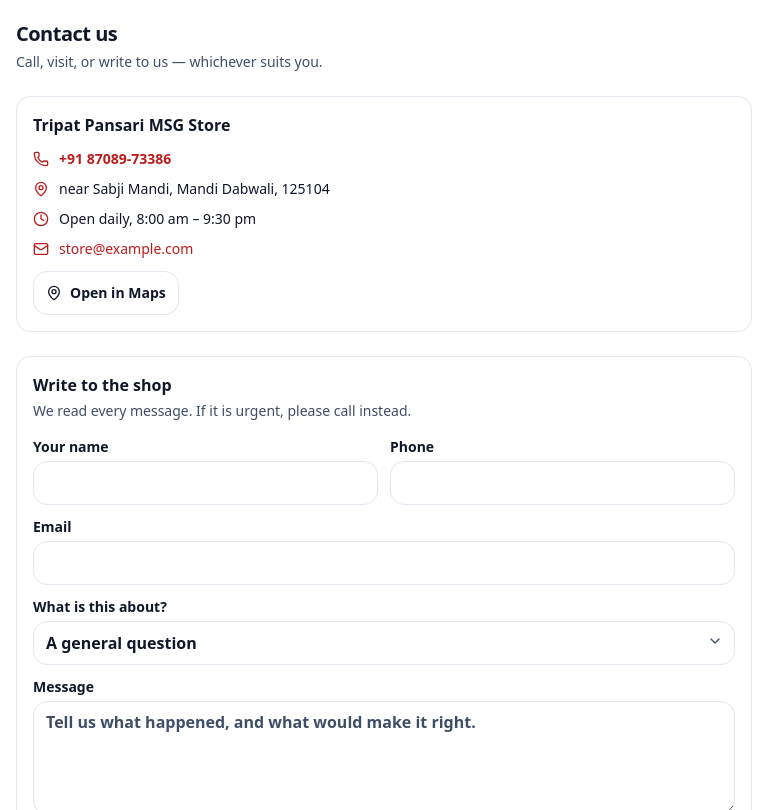
Test: ContactPage › sends the message and thanks the customer
In the field labelled "Your name": [206, 483] box left=33, top=461, right=378, bottom=505, type "Ramesh"
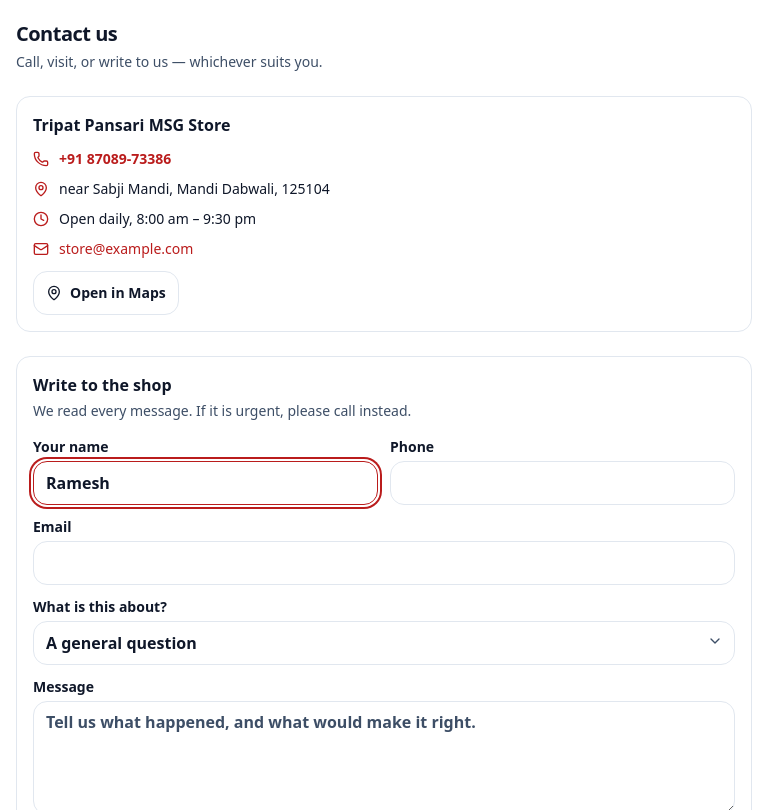
In the field labelled "Phone": [562, 483] box left=390, top=461, right=735, bottom=505, type "9876543210"
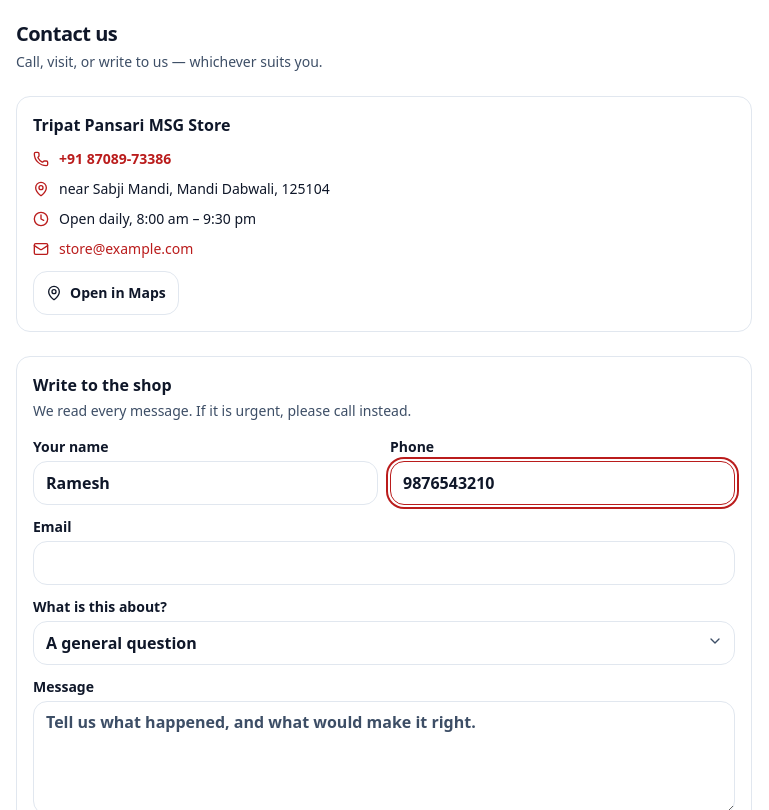
Select "An order" in the dropdown labelled "What is this about?": [384, 643] box left=33, top=621, right=735, bottom=665
(page scrolled)
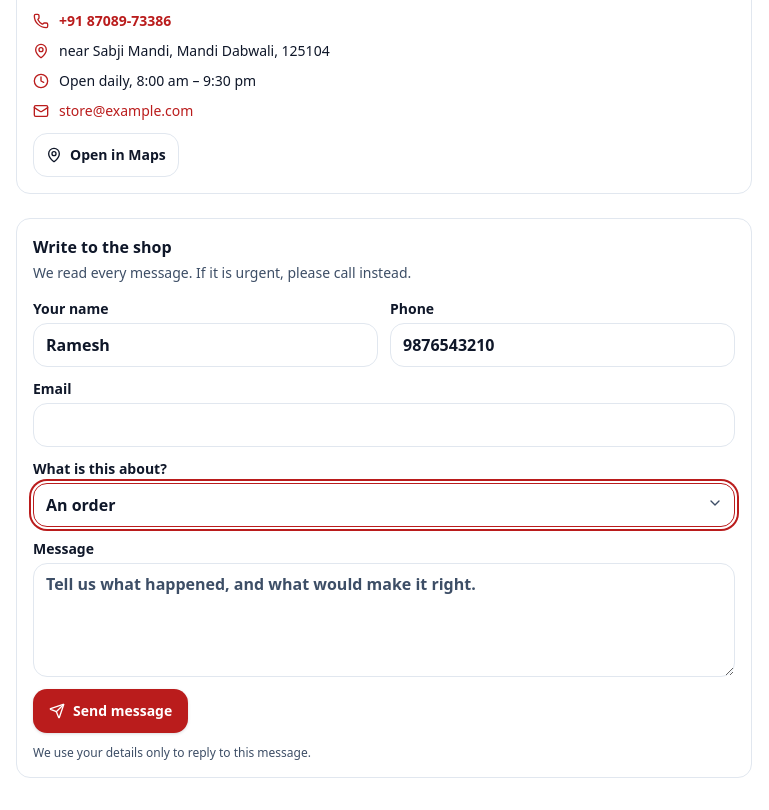
In the text box labelled "Message": [384, 620] box left=33, top=563, right=735, bottom=677, type "Packet was torn"
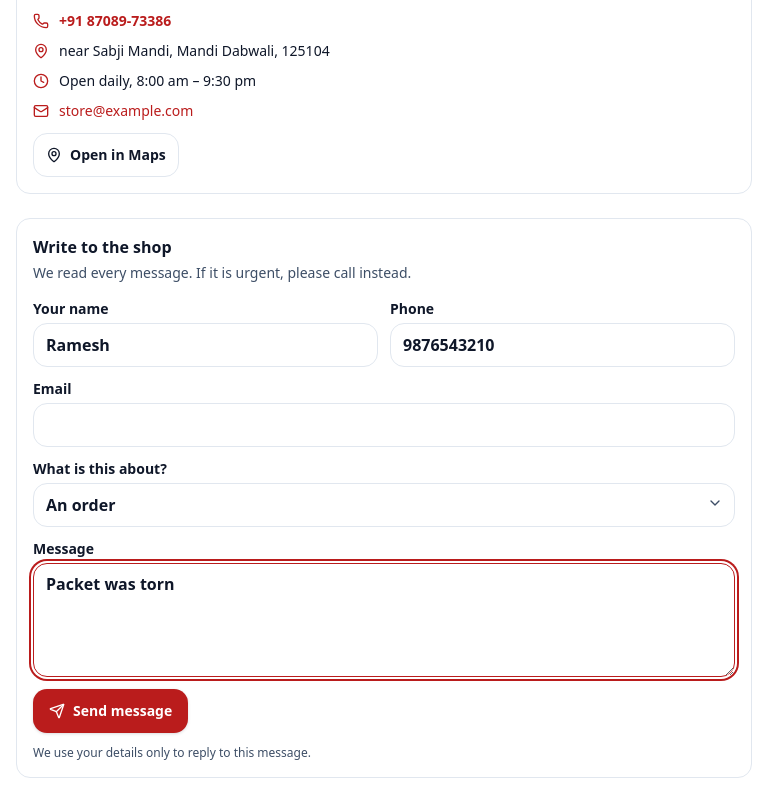
Click the button "Send message": [111, 711] box left=33, top=689, right=188, bottom=733
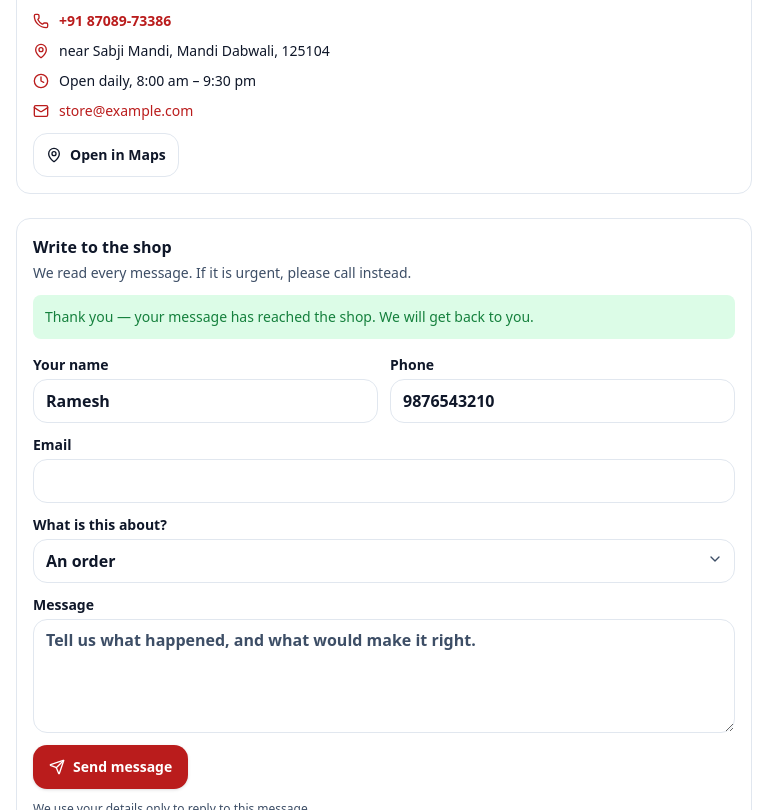
Expected: the text "Thank you — your message has reached the shop. We will get back to you." is shown, left=33, top=295, right=735, bottom=339
